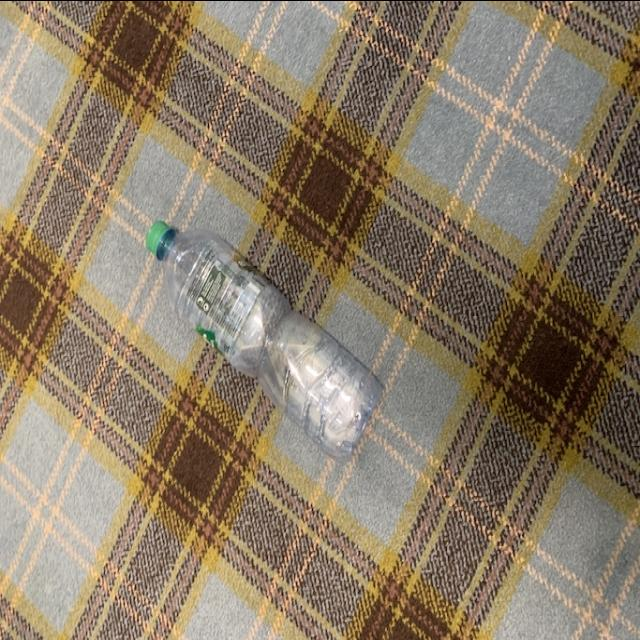litter: (146, 217, 383, 462)
